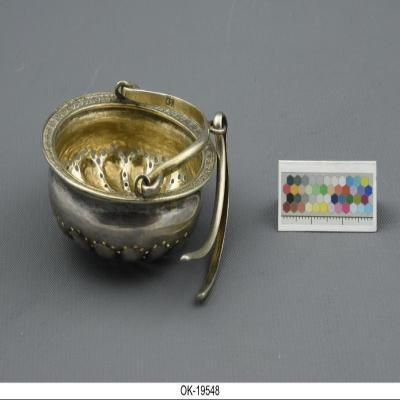dpi: (41, 81, 230, 299)
